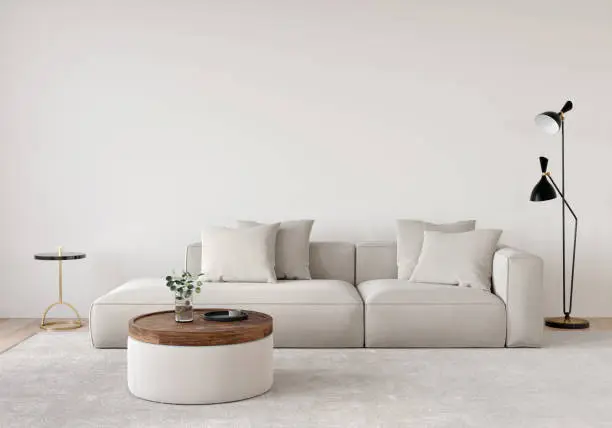floor lamp: (527, 98, 591, 331)
side table: (30, 247, 88, 333)
small plant: (164, 266, 211, 323)
sofa: (87, 216, 548, 350)
table: (124, 304, 273, 407)
